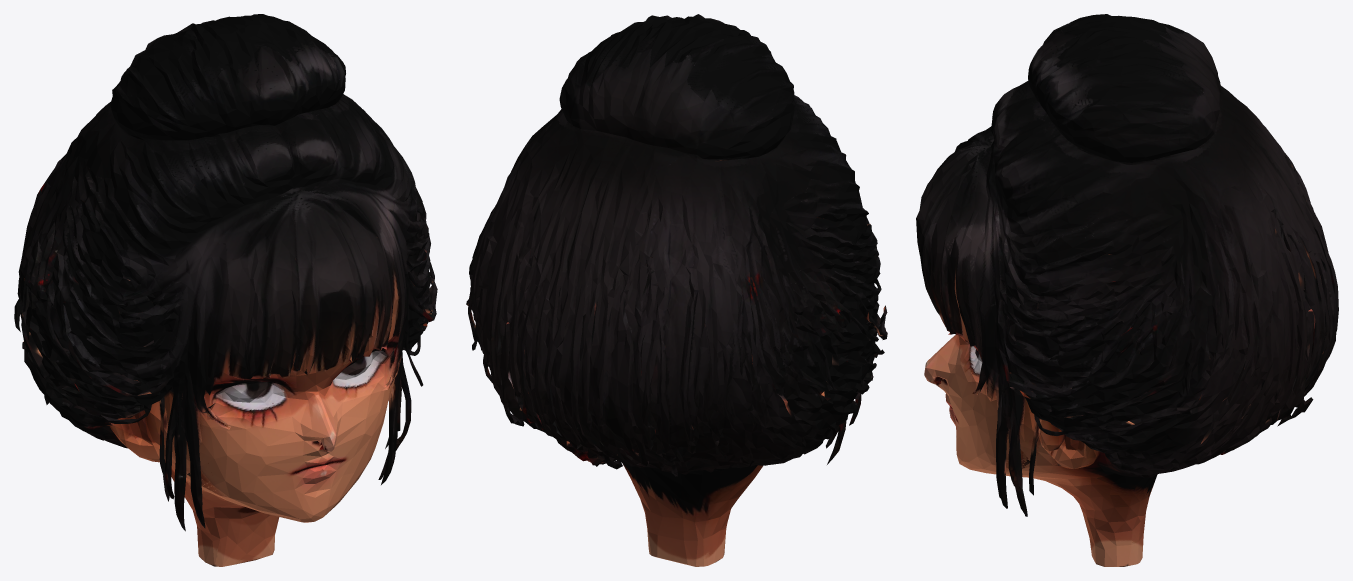
File: traveler_head_side_hagi_slim_socket_00001_.glb
3 views of the same model, side by side, from view 1: azimuth 30°, elevation 25°; view 2: azimuth 150°, elevation 25°; view 3: azimuth 270°, elevation 25° (orthographic).
Visible parts, largest first — view 1: temp_mesh.ply; view 2: temp_mesh.ply; view 3: temp_mesh.ply.
Part boxes in pixels (<box>): temp_mesh.ply: <box>14,14,437,566</box>; temp_mesh.ply: <box>466,14,887,566</box>; temp_mesh.ply: <box>916,14,1338,566</box>.
Bounding box in the file's own units: 1.46 × 1.97 × 1.44.
Materials: 1 (1 with a texture image).
